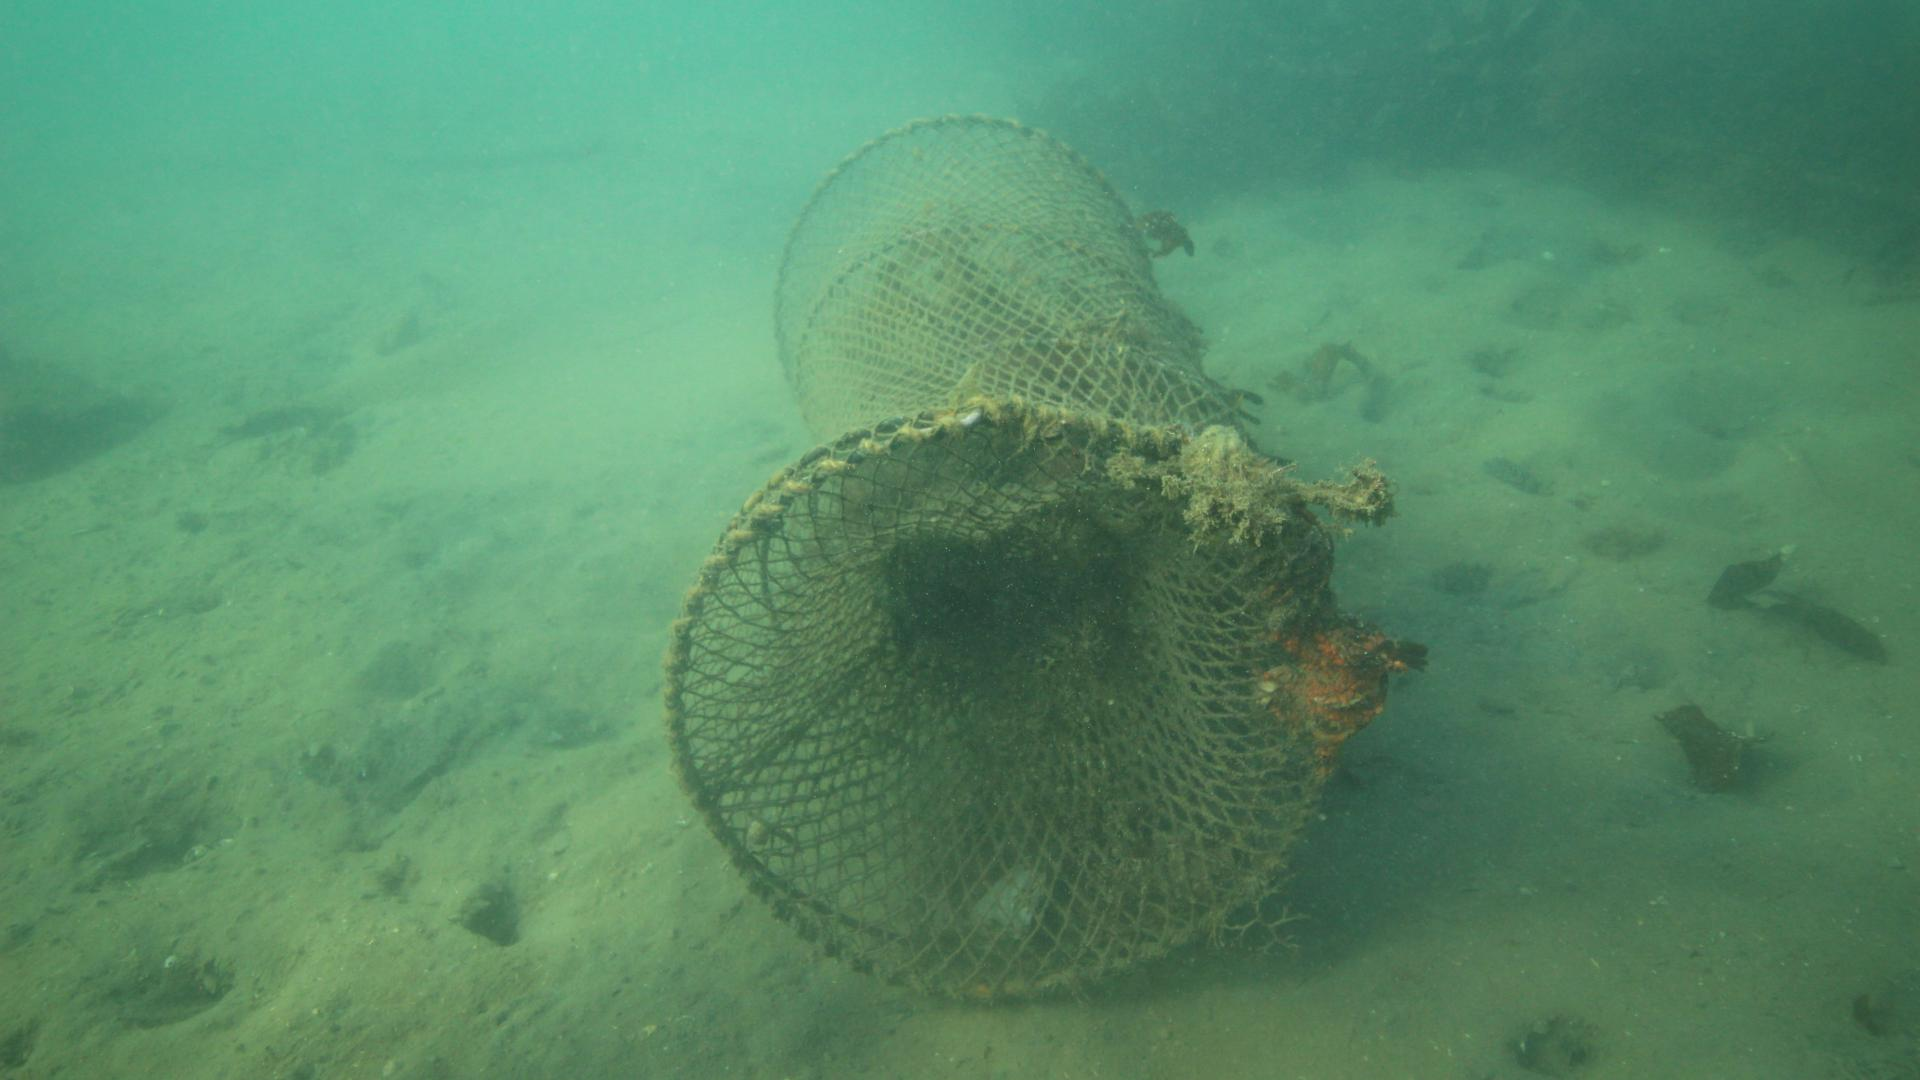spring fish trap: (659, 113, 1332, 1004)
